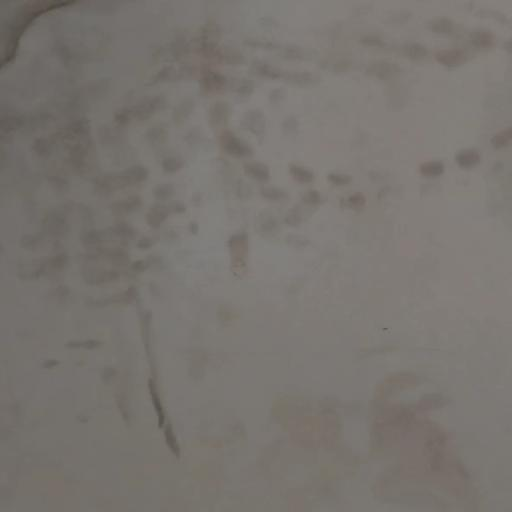stain: (0, 0, 446, 314), (64, 274, 209, 470)
